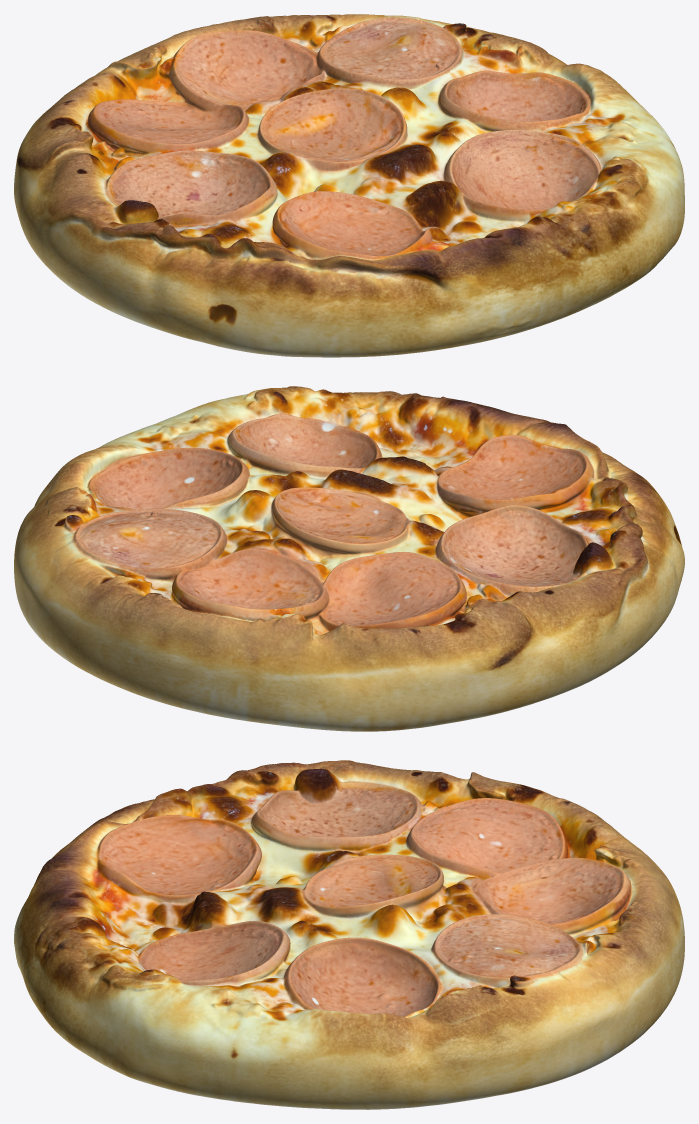
Rendered from Pepperoni_Pizza.glb.
3 renders of one model, top to bottom at view 1: azimuth 30°, elevation 25°; view 2: azimuth 150°, elevation 25°; view 3: azimuth 270°, elevation 25°, orthographic.
Size of the model in its own units: 1.9 by 0.3109 by 1.87.
1 material, 1 textured.
